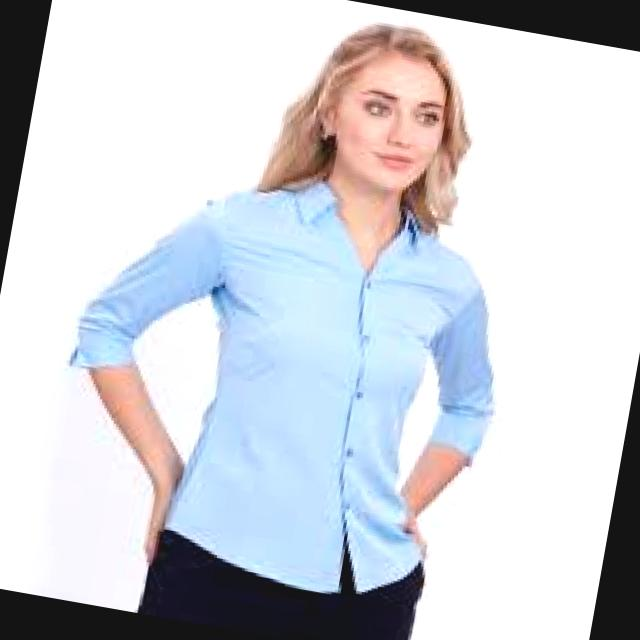face: (325, 52, 445, 192)
lower-wear: (137, 529, 424, 639)
top-wear: (69, 178, 494, 592)
